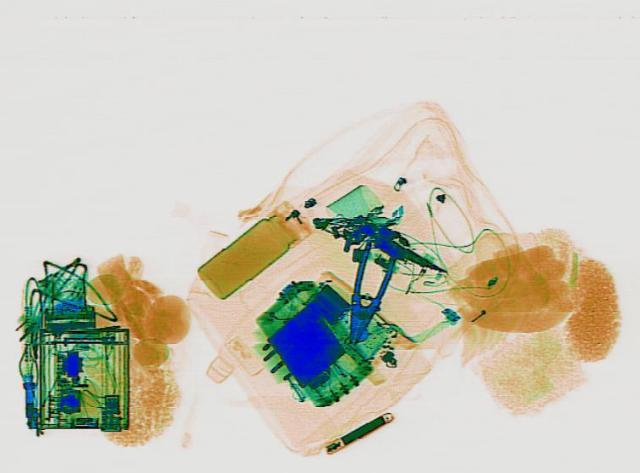Pliers: (334, 239, 400, 341)
